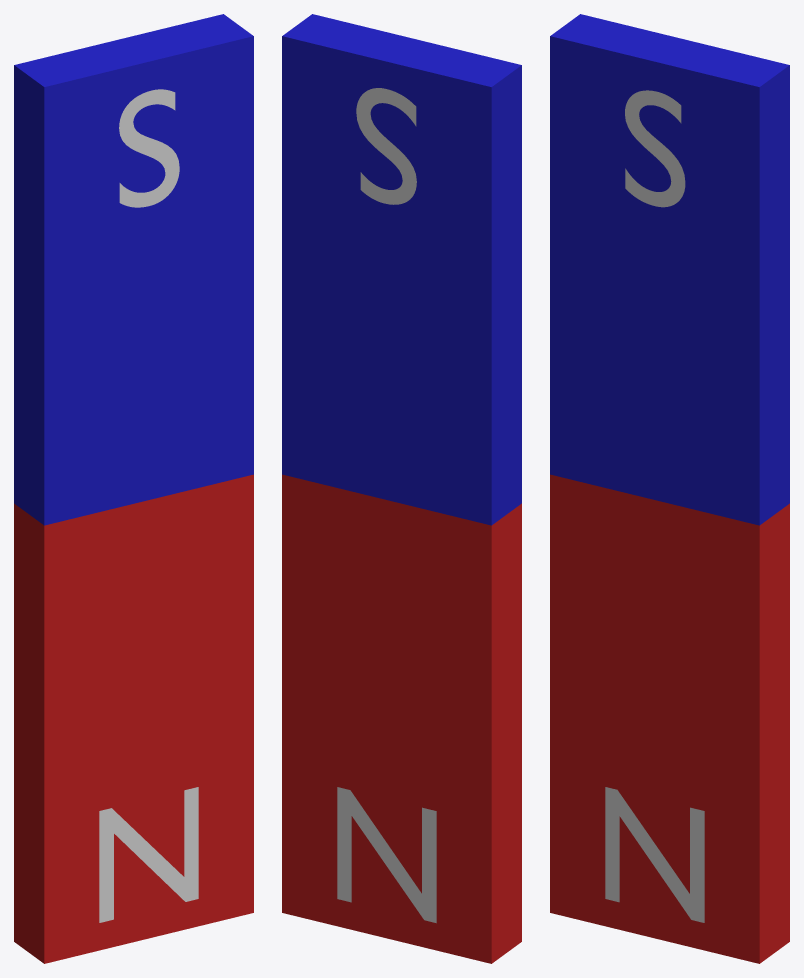
Rendered from Magnetic.fbx.
3 renders of one model, left to right at view 1: azimuth 30°, elevation 25°; view 2: azimuth 150°, elevation 25°; view 3: azimuth 330°, elevation 25°, orthographic.
Visible parts, largest first — view 1: Magnetic; view 2: Magnetic; view 3: Magnetic.
Boxes of the visible parts, x1=… form: Magnetic: x1=14, y1=14, x2=253, y2=963; Magnetic: x1=282, y1=14, x2=521, y2=963; Magnetic: x1=550, y1=14, x2=789, y2=963.
Size of the model in its own units: 200 by 800 by 50.
